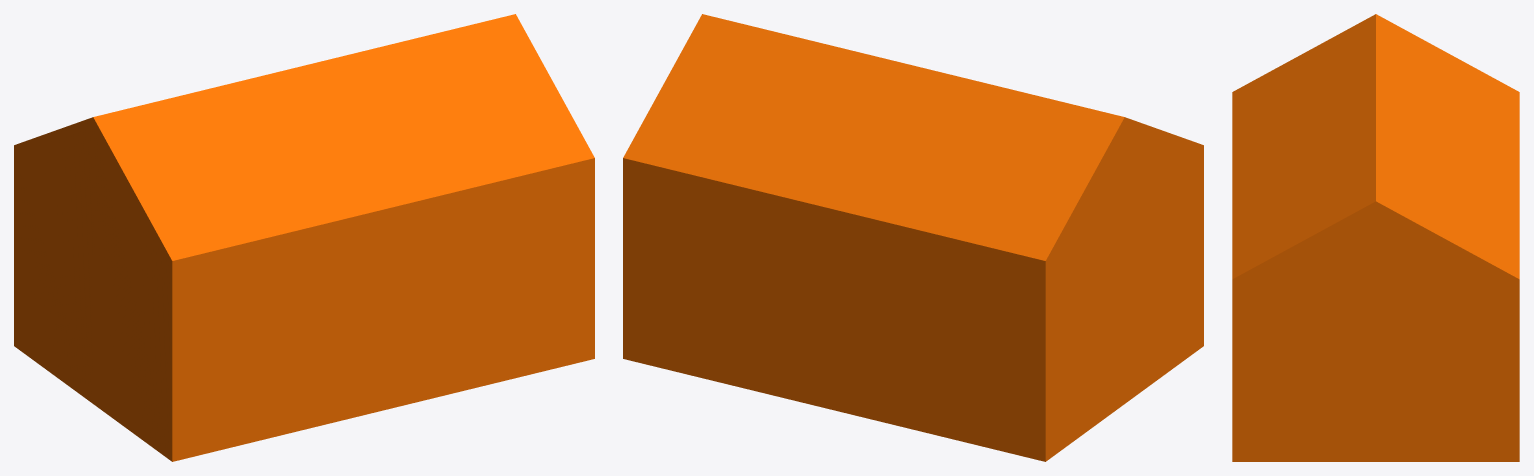
The model's file is orangeSettlement.fbx.
3 renders of one model, left to right at view 1: azimuth 30°, elevation 25°; view 2: azimuth 150°, elevation 25°; view 3: azimuth 270°, elevation 25°, orthographic. The views are drawn at different scales.
Visible parts, largest first — view 1: Cube; view 2: Cube; view 3: Cube.
Boxes of the visible parts, x1,y1,x2,y2 form: Cube: (14,14,594,461); Cube: (623,14,1203,461); Cube: (1232,14,1519,461).
Size of the model in its own units: 308 by 200 by 200.
